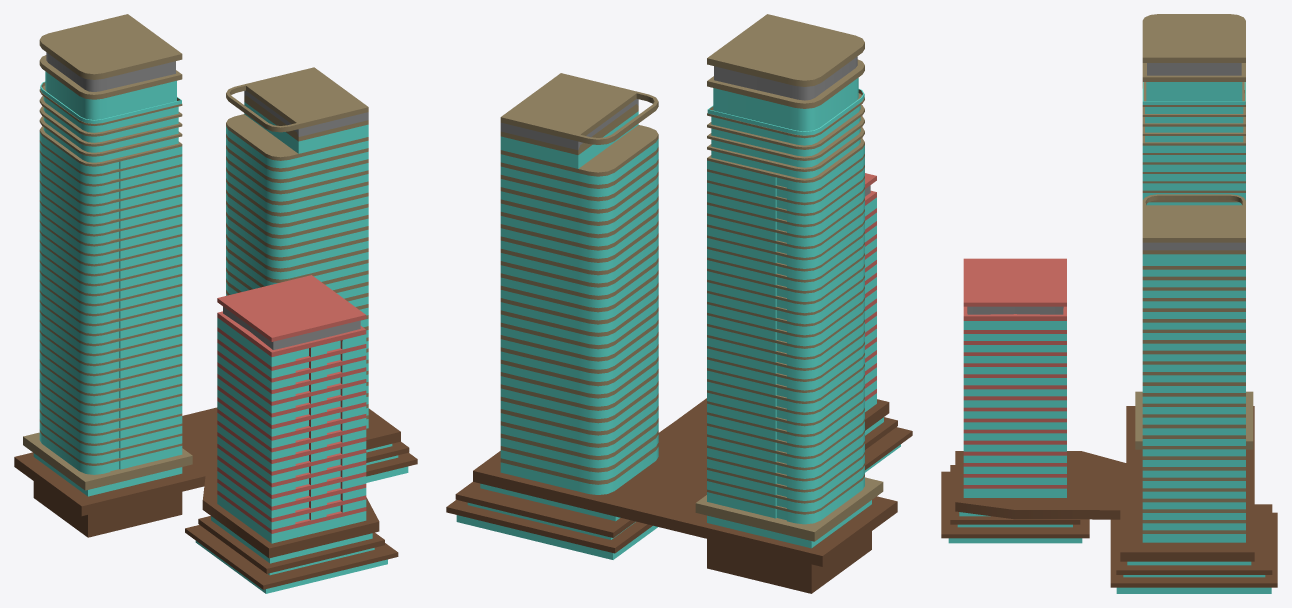
The model's file is DistrictE.fbx.
3 renders of one model, left to right at view 1: azimuth 30°, elevation 25°; view 2: azimuth 150°, elevation 25°; view 3: azimuth 270°, elevation 25°, orthographic. The views are drawn at different scales.
Parts seen in each view (by area): view 1: Cube.009, Cube.010, Cube.012; view 2: Cube.009, Cube.012, Cube.010; view 3: Cube.012, Cube.010, Cube.009.
Boxes of the visible parts, left/top/right/bottom form: Cube.009: left=14, top=14, right=205, bottom=537; Cube.010: left=185, top=275, right=398, bottom=593; Cube.012: left=182, top=67, right=417, bottom=482; Cube.009: left=685, top=14, right=897, bottom=593; Cube.012: left=446, top=73, right=706, bottom=559; Cube.010: left=658, top=173, right=912, bottom=472; Cube.012: left=1110, top=194, right=1277, bottom=593; Cube.010: left=941, top=258, right=1126, bottom=543; Cube.009: left=1126, top=14, right=1254, bottom=463.
Size of the model in its own units: 2300 by 3091 by 2153.
